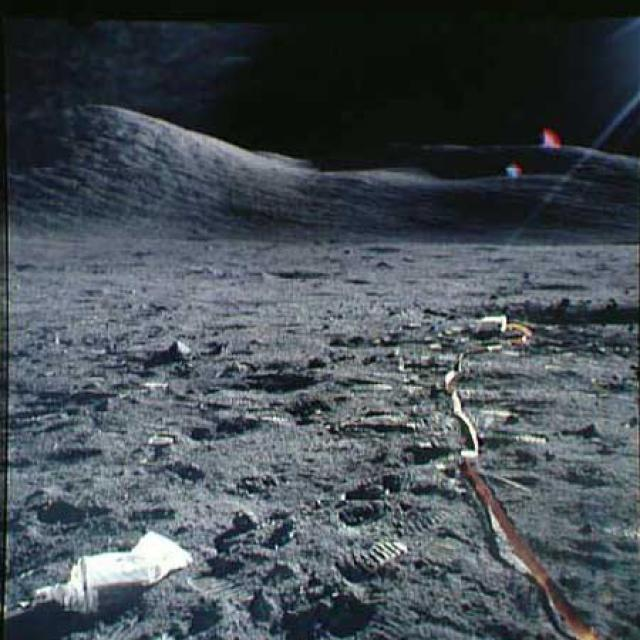artifact: (13, 532, 202, 612), (469, 313, 515, 342)
crater: (492, 297, 639, 328), (218, 370, 322, 398), (262, 267, 334, 285), (514, 279, 596, 293), (352, 241, 406, 255)
rock: (167, 334, 200, 361)
